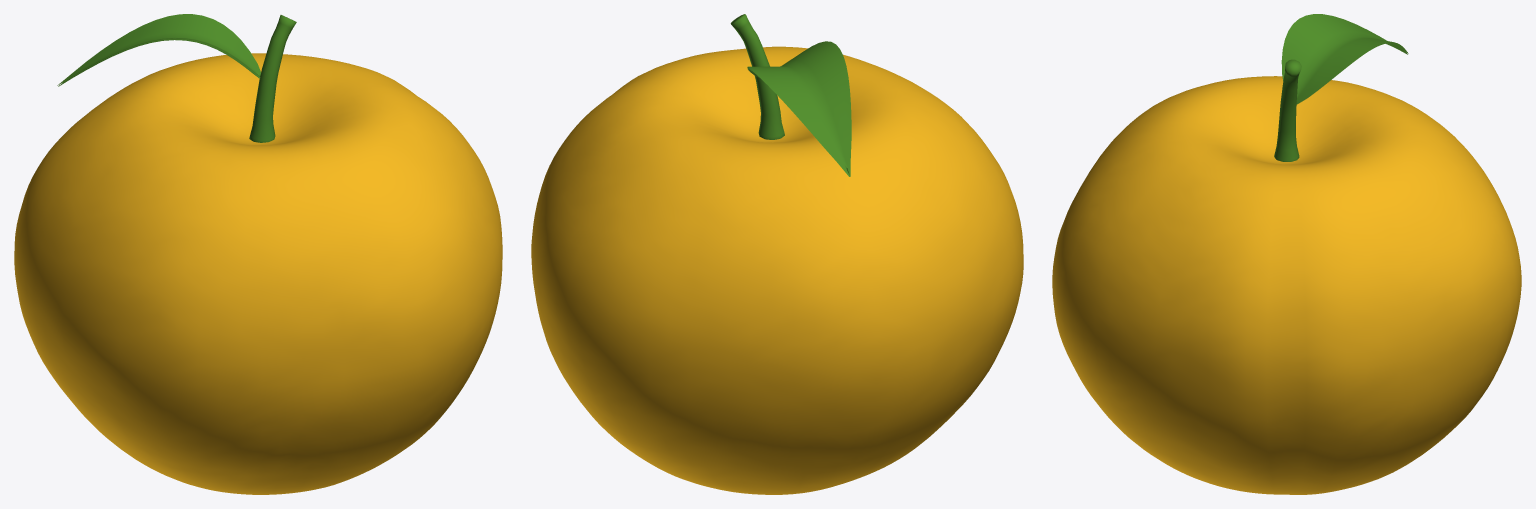
Rendered from SM_FoodOrb.glb.
The picture shows the model from 3 angles, left to right: view 1: azimuth 30°, elevation 25°; view 2: azimuth 150°, elevation 25°; view 3: azimuth 270°, elevation 25°; orthographic projection. The views are drawn at different scales.
Visible parts, largest first — view 1: SM_FoodOrb; view 2: SM_FoodOrb; view 3: SM_FoodOrb.
Part boxes in pixels (bbox=[...]): SM_FoodOrb: bbox=[14, 14, 502, 494]; SM_FoodOrb: bbox=[531, 14, 1023, 494]; SM_FoodOrb: bbox=[1052, 14, 1521, 494].
Size of the model in its own units: 1.39 by 1.37 by 1.41.
